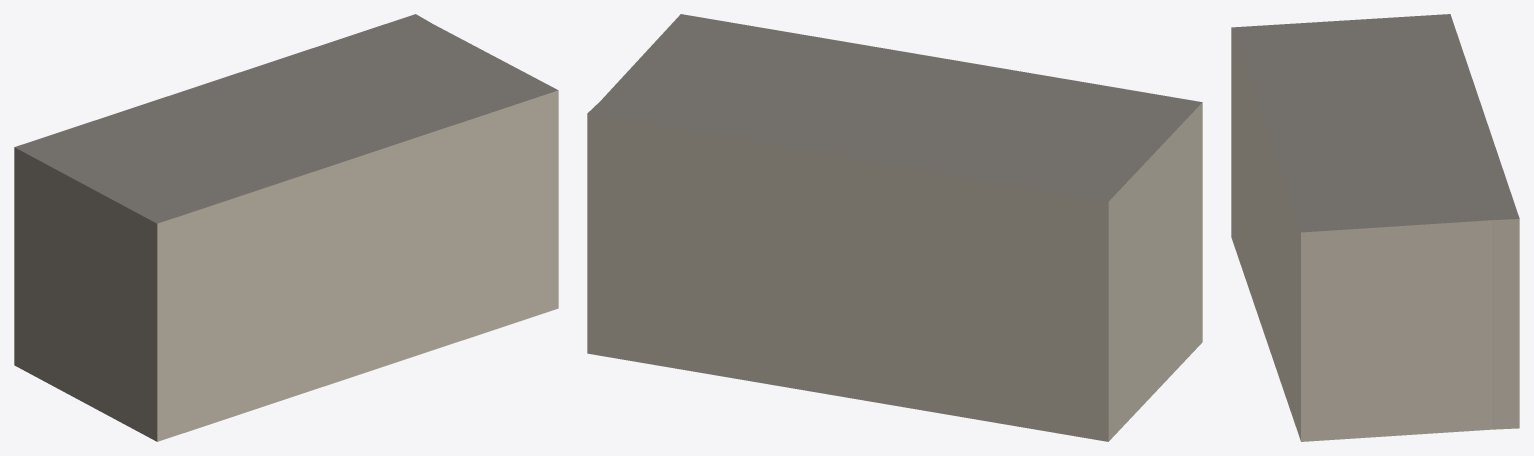
3 renders of one model, left to right at view 1: azimuth 30°, elevation 25°; view 2: azimuth 150°, elevation 25°; view 3: azimuth 270°, elevation 25°, orthographic. The views are drawn at different scales.
Visible parts, largest first — view 1: HP-w1286965256; view 2: HP-w1286965256; view 3: HP-w1286965256.
Boxes of the visible parts, x1=… form: HP-w1286965256: x1=14, y1=14, x2=558, y2=441; HP-w1286965256: x1=587, y1=14, x2=1202, y2=441; HP-w1286965256: x1=1231, y1=14, x2=1519, y2=441.
Size of the model in its own units: 40.27 by 18 by 22.47.
